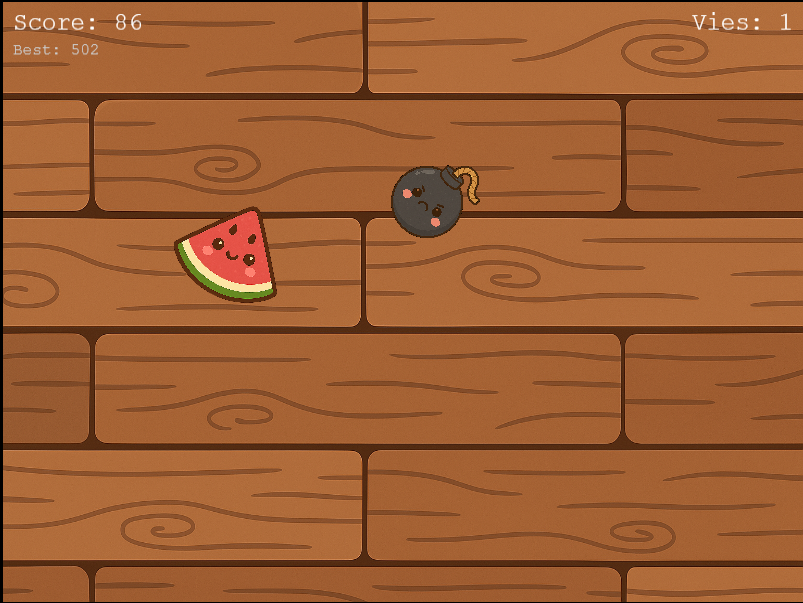bomb: (382, 154, 489, 242)
fruit: (171, 206, 280, 307)
